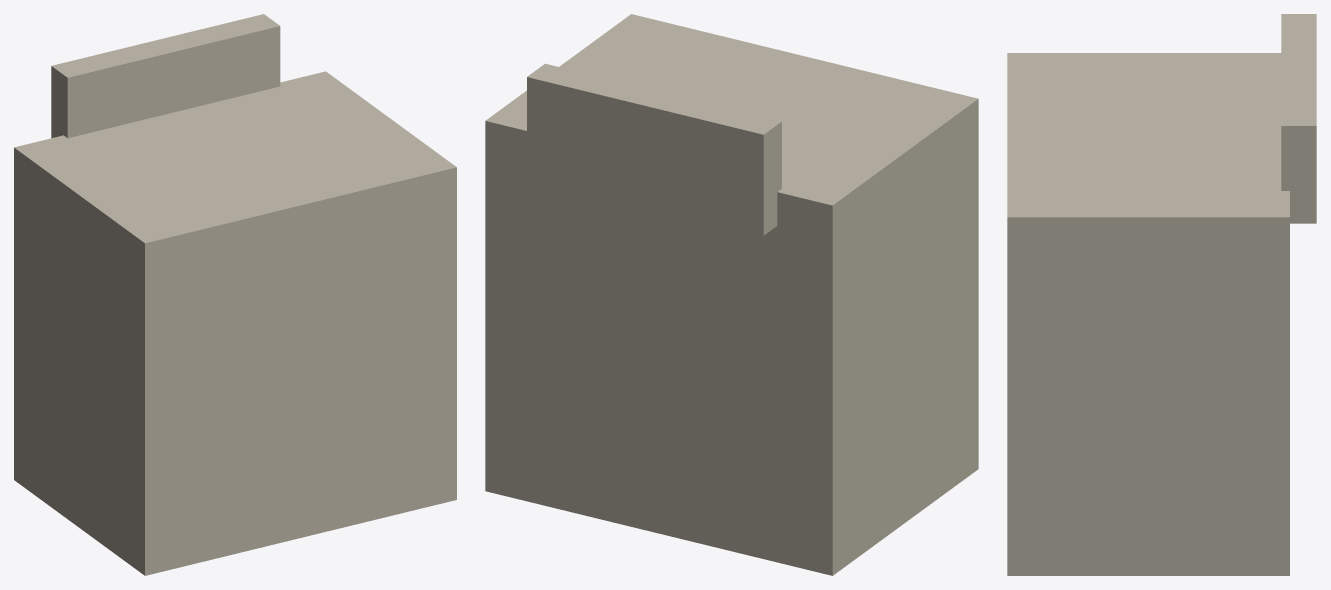
Rendered from iz2_item_hand_warmer.glb.
3 views of the same model, side by side, from view 1: azimuth 30°, elevation 25°; view 2: azimuth 150°, elevation 25°; view 3: azimuth 270°, elevation 25° (orthographic). The views are drawn at different scales.
Visible parts, largest first — view 1: body; view 2: body; view 3: body.
Part boxes in pixels (box(x1,y1,x2,y2)): body: box(14, 14, 456, 575); body: box(485, 14, 978, 575); body: box(1007, 14, 1316, 575).
Size of the model in its own units: 0.2143 by 0.258 by 0.1706.
